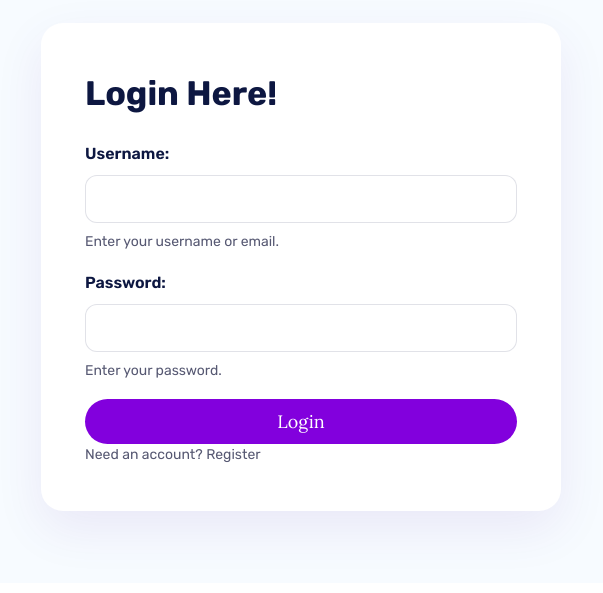
Test case: LoginPage › submits username and password, stores auth data, and renders success
The image size is (603, 593).
Type "ada" into the field labelled "Username:" at (301, 199), box [85,175,517,223]
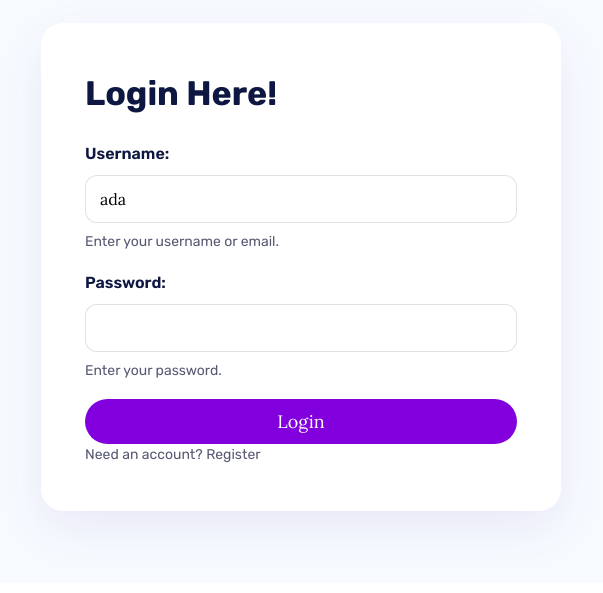
Type "password123" into the password field labelled "Password:" at (301, 328), box [85,304,517,352]
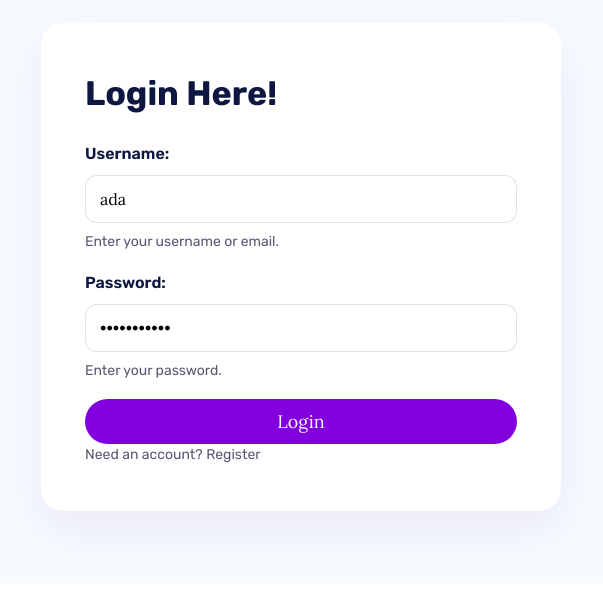
Click the button "Login" at (301, 422), box [85,399,517,444]
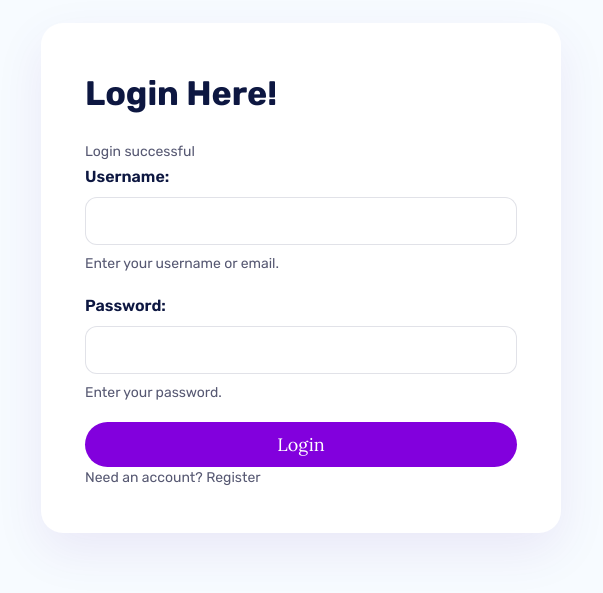
Result: the message reads "Login successful" at [85,143,195,160]
